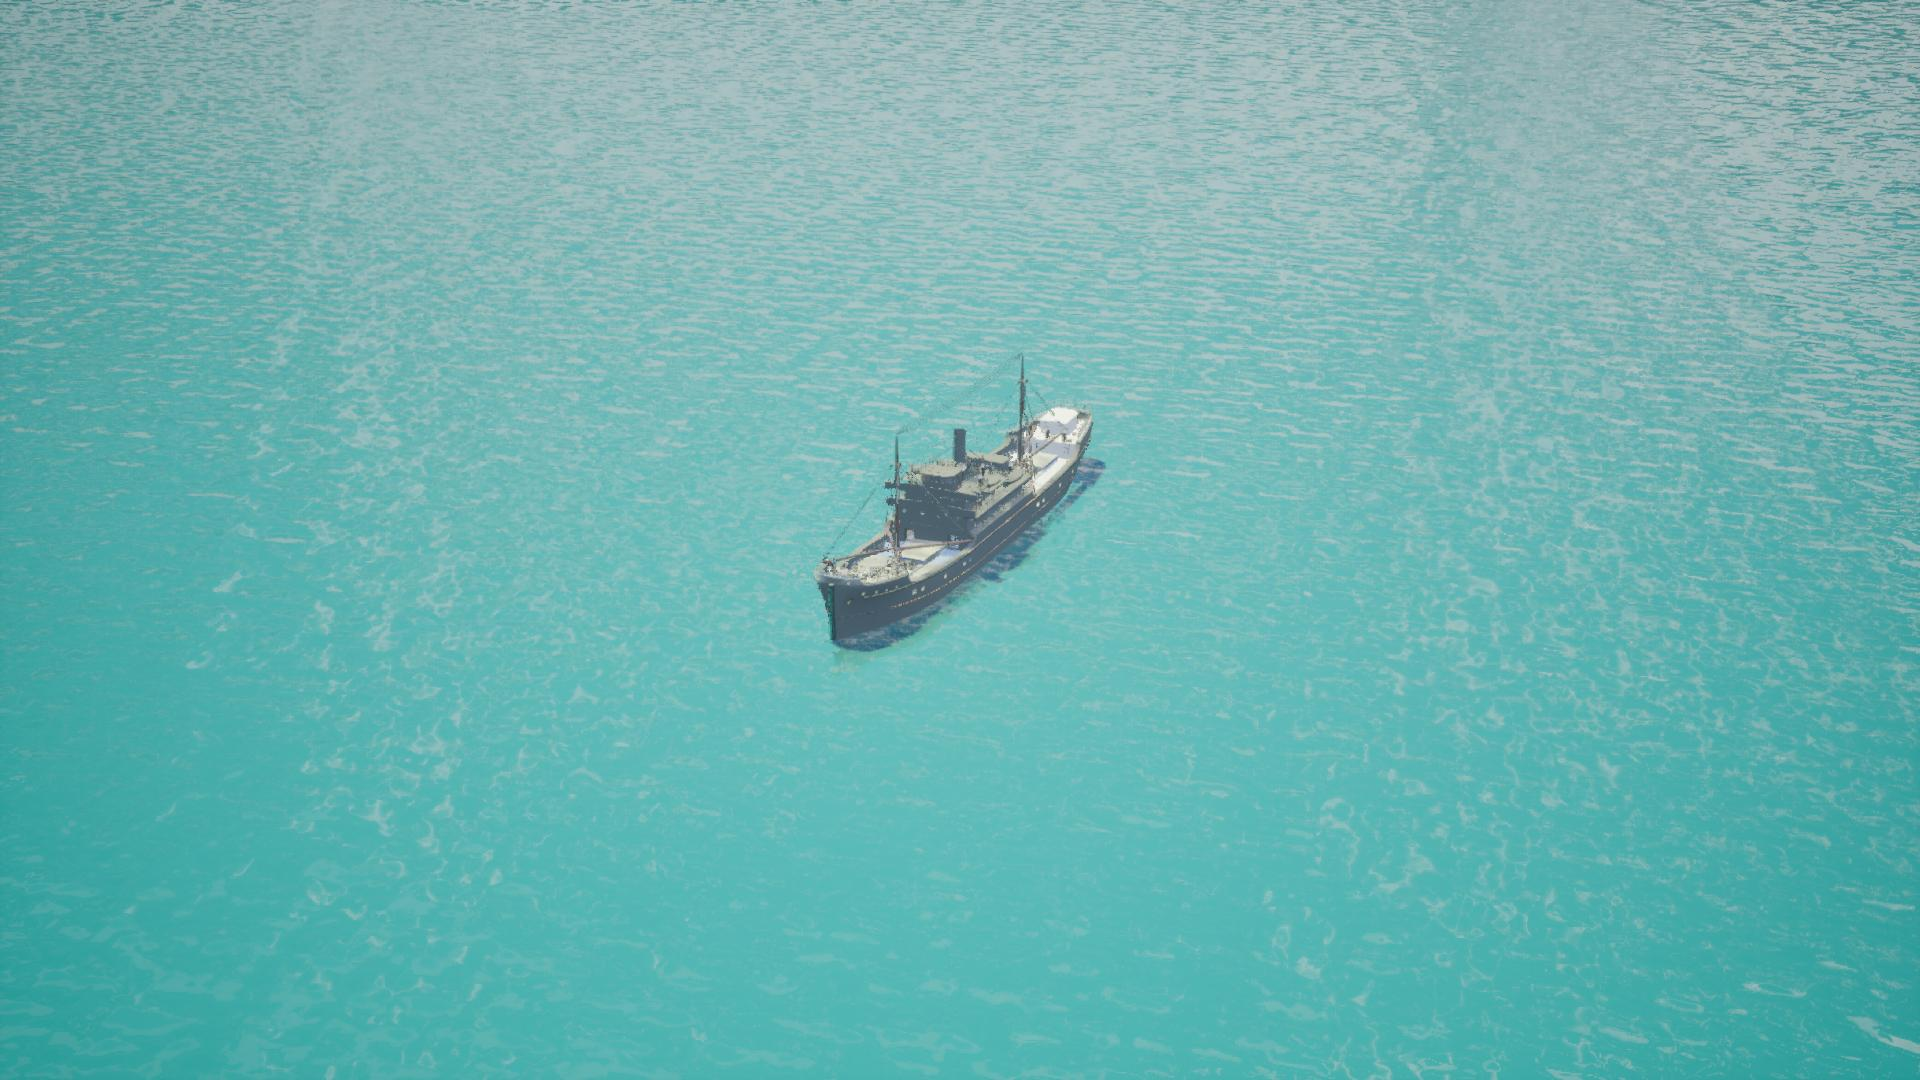Fishing Boat: (807, 402, 1104, 654)
